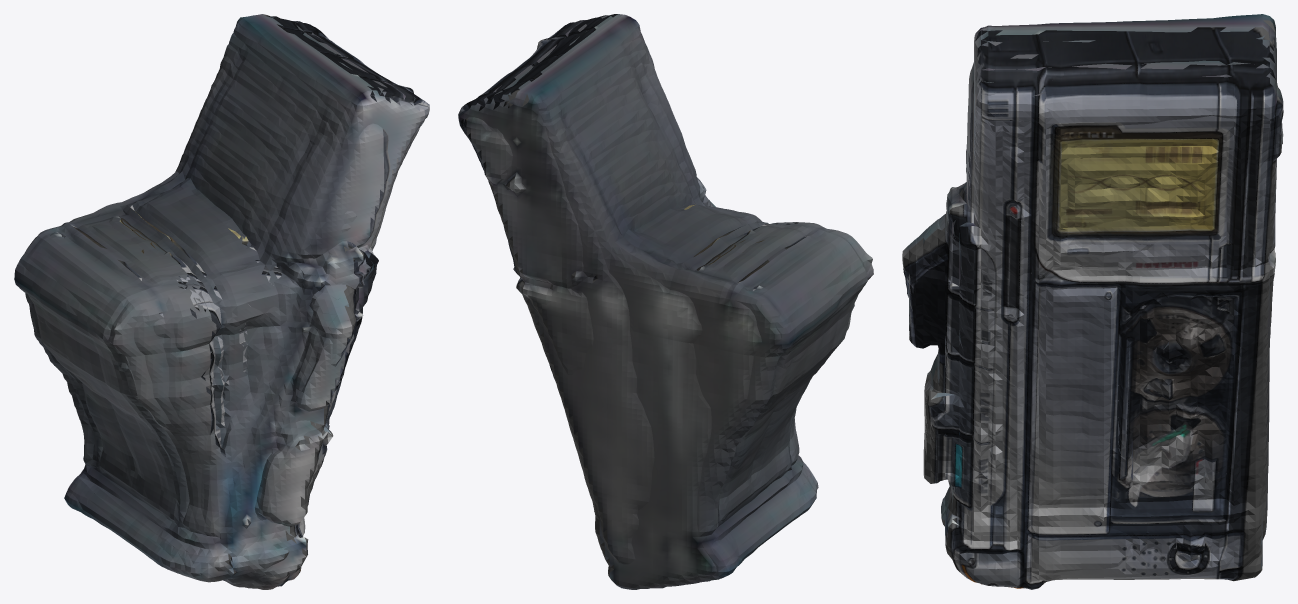
The model's file is cassette.glb.
3 views of the same model, side by side, from view 1: azimuth 30°, elevation 25°; view 2: azimuth 150°, elevation 25°; view 3: azimuth 270°, elevation 25° (orthographic). The views are drawn at different scales.
Size of the model in its own units: 0.618 by 0.8644 by 0.4809.
Materials: 1 (1 with a texture image).
